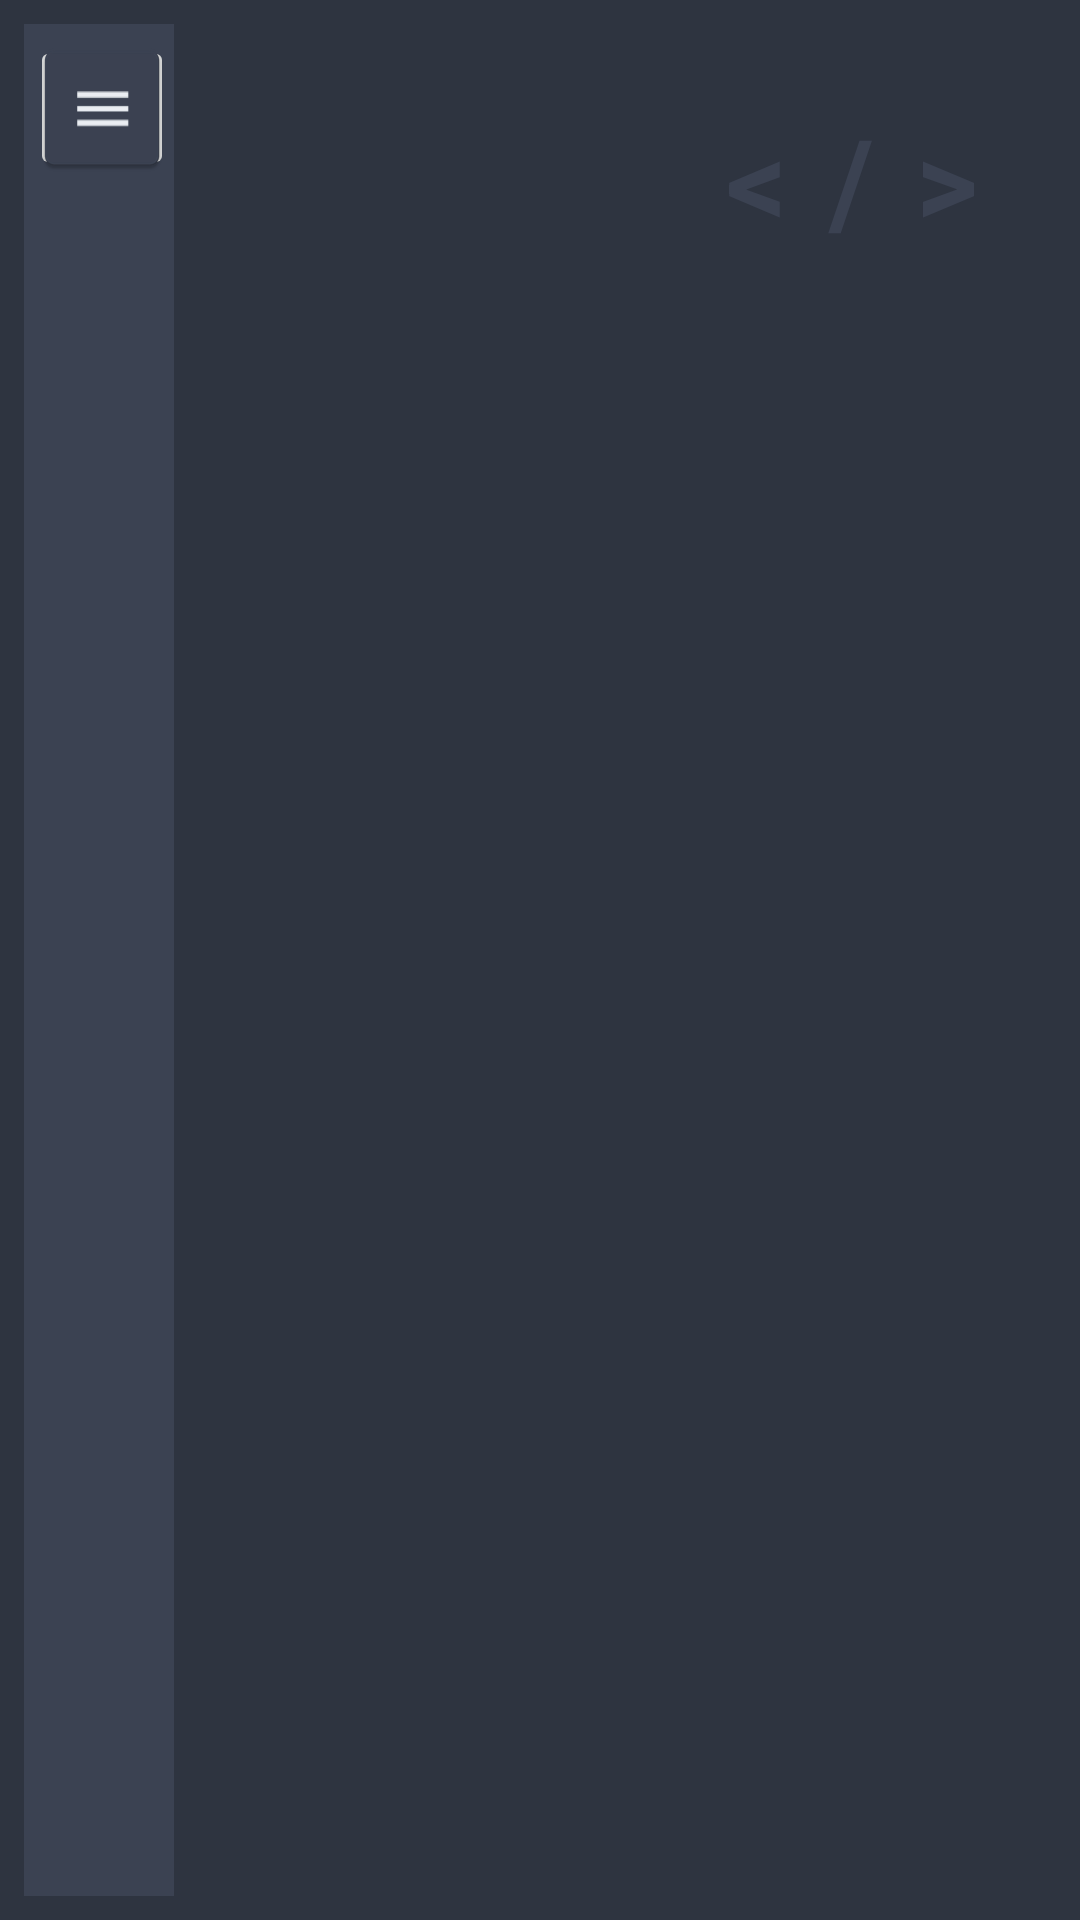

Locate icon controls on the screen. Image size 1080*1920, boxes as (x1, y1, x2, y2).
HAMBURGER: (42, 54, 162, 162)
